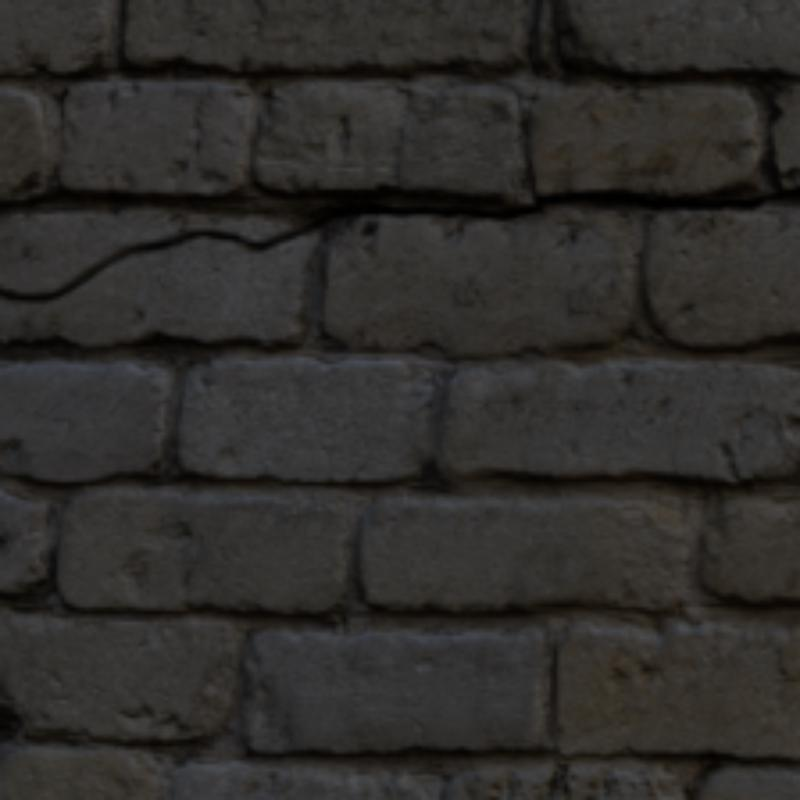pothole: (0, 186, 796, 300)
